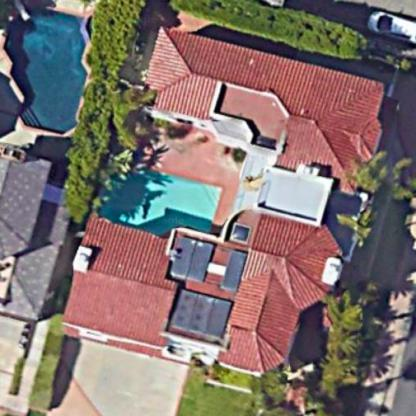car: (358, 4, 416, 47)
swimming_pool: (5, 4, 97, 150), (94, 152, 230, 250)
